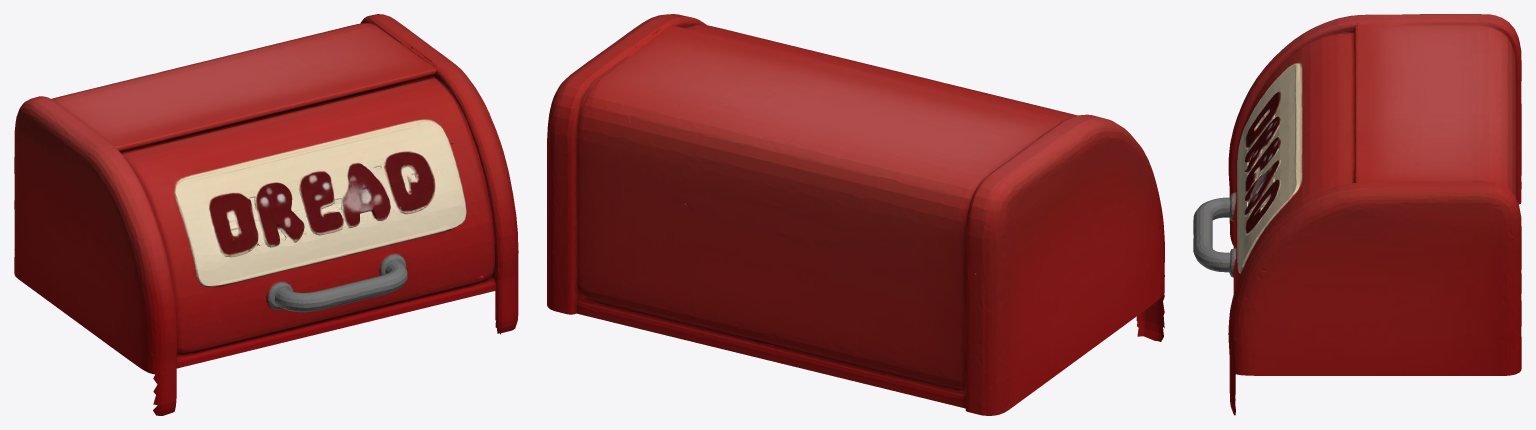
File: lid_front.glb
3 renders of one model, left to right at view 1: azimuth 30°, elevation 25°; view 2: azimuth 150°, elevation 25°; view 3: azimuth 270°, elevation 25°, orthographic. The views are drawn at different scales.
Parts seen in each view (by area): view 1: source_surface_0; view 2: source_surface_0; view 3: source_surface_0.
Boxes of the visible parts, x1=… form: source_surface_0: x1=14, y1=14, x2=518, y2=415; source_surface_0: x1=547, y1=14, x2=1164, y2=415; source_surface_0: x1=1193, y1=14, x2=1521, y2=415.
Size of the model in its own units: 0.38 by 0.2202 by 0.2855.
1 material, 1 textured.
